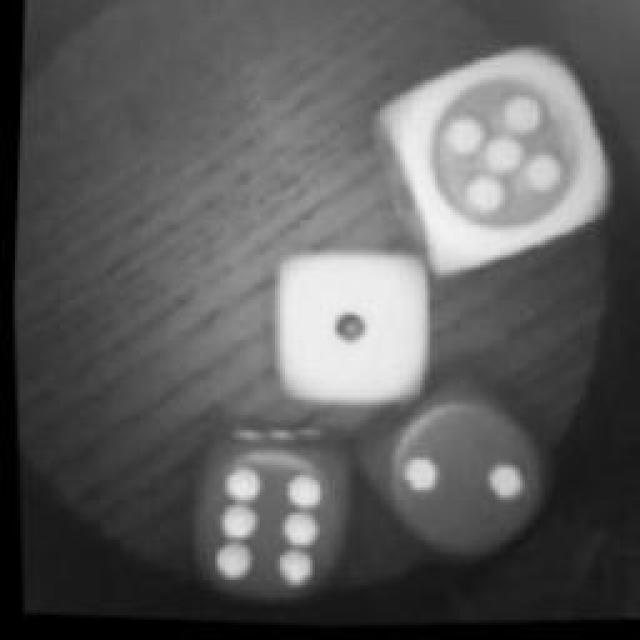dice_1: (255, 232, 440, 428)
dice_2: (344, 377, 558, 585)
dice_5: (359, 29, 626, 294)
dice_6: (163, 406, 365, 624)
